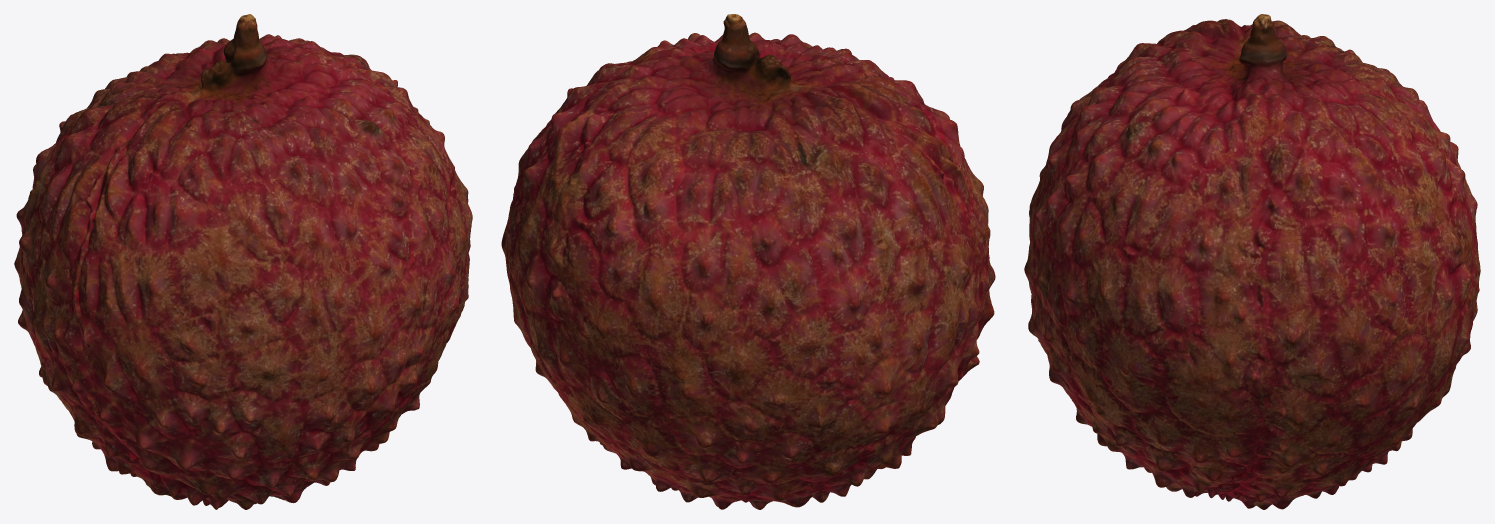
Rendered from lychee_3d_h.glb.
3 renders of one model, left to right at view 1: azimuth 30°, elevation 25°; view 2: azimuth 150°, elevation 25°; view 3: azimuth 270°, elevation 25°, orthographic. The views are drawn at different scales.
Parts seen in each view (by area): view 1: Object_3, Object_2, Object_4; view 2: Object_3, Object_4, Object_2; view 3: Object_2, Object_3, Object_4.
Boxes of the visible parts, box(x1,y1,x2,y2) form: Object_3: box(16, 15, 441, 505); Object_2: box(110, 34, 472, 509); Object_4: box(14, 14, 454, 500); Object_3: box(526, 15, 995, 502); Object_4: box(502, 14, 994, 509); Object_2: box(501, 33, 912, 509); Object_2: box(1024, 45, 1456, 509); Object_3: box(1028, 14, 1480, 495); Object_4: box(1025, 14, 1479, 509).
Bounding box in the file's own units: 0.9458 × 1.02 × 0.8725.
Materials: 1 (1 with a texture image).
